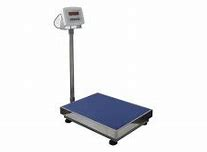Industrial Scale: (53, 6, 154, 147)
